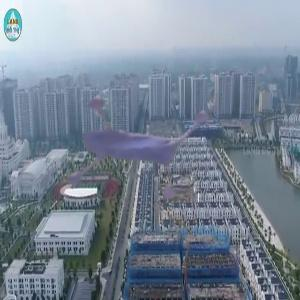drone: (35, 36, 242, 243)
